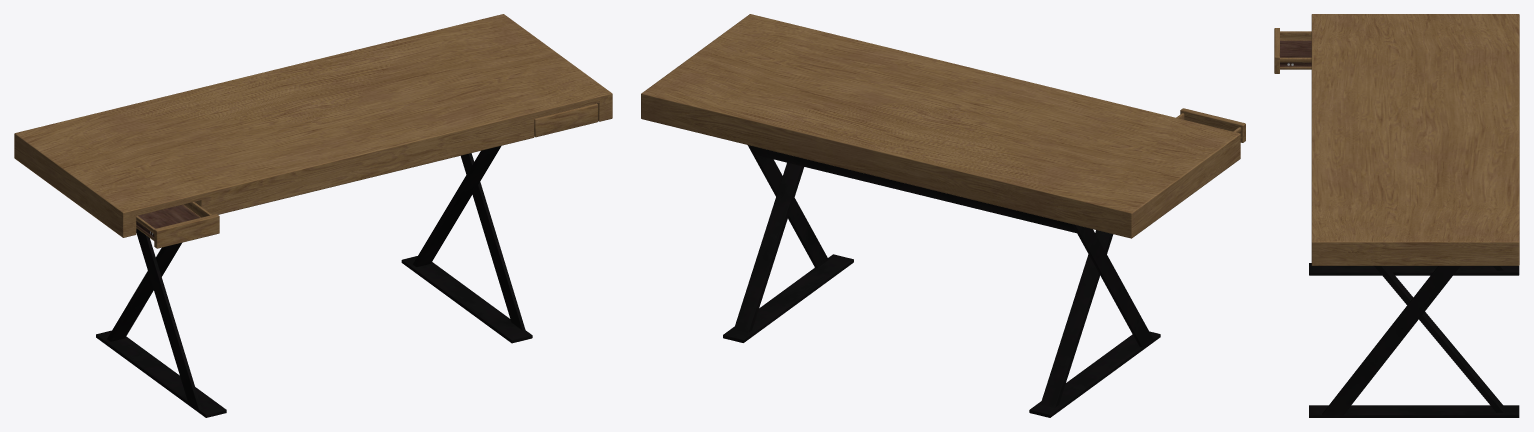
Rendered from escritorio_praga_180x70x79cm_madera_teak_natural.glb.
3 renders of one model, left to right at view 1: azimuth 30°, elevation 25°; view 2: azimuth 150°, elevation 25°; view 3: azimuth 270°, elevation 25°, orthographic. The views are drawn at different scales.
Parts seen in each view (by area): view 1: Wood, Metallic; view 2: Wood, Metallic; view 3: Wood, Metallic.
Boxes of the visible parts, x1,y1,x2,y2 form: Wood: (14, 14, 612, 248); Metallic: (96, 146, 532, 417); Wood: (641, 14, 1245, 238); Metallic: (723, 145, 1160, 417); Wood: (1274, 14, 1519, 265); Metallic: (1309, 263, 1519, 417).
Bounding box in the file's own units: 180 × 78.71 × 81.59.
1 material, 1 textured.
